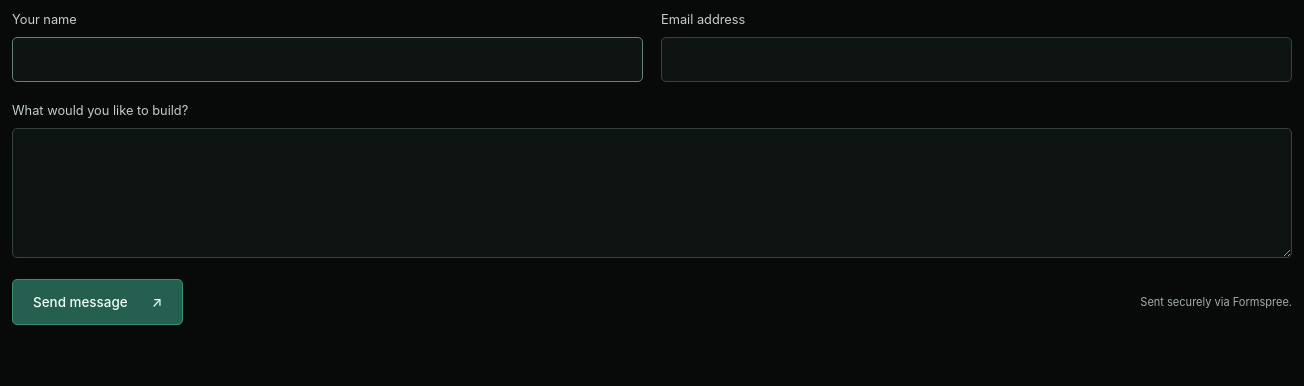
Test: Contact form — all requests mocked › shows pending state, prevents duplicate sends and announces success
The image size is (1304, 386).
Step 1. Type "Test Visitor" into the field labelled "Your name" → [328, 60], box x1=12 y1=37 x2=643 y2=82
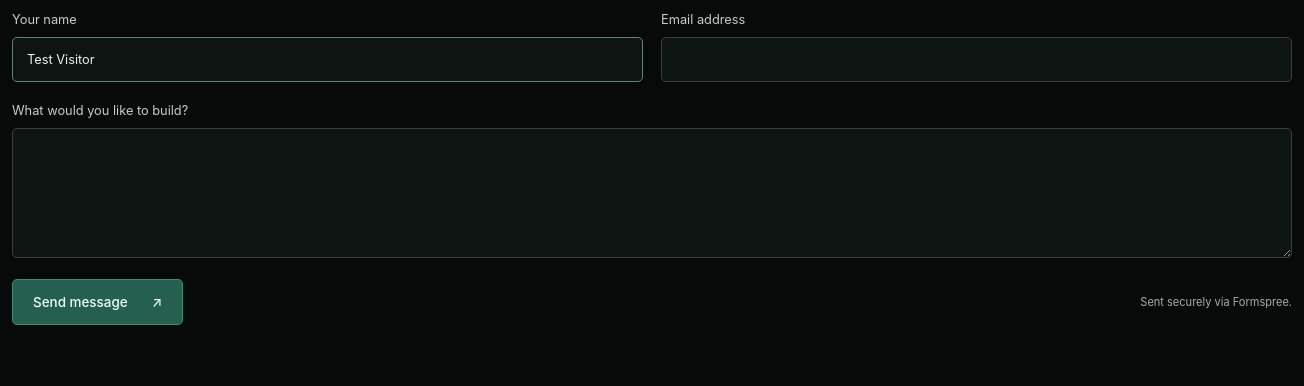
Step 2. Type "visitor@example.com" into the field labelled "Email address" → [976, 60], box x1=661 y1=37 x2=1292 y2=82
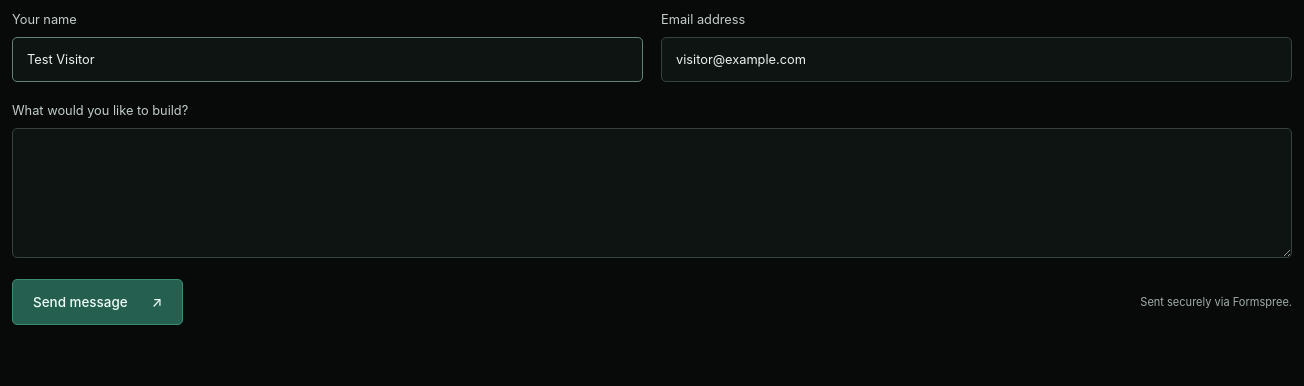
Step 3. Type "A sample enquiry for a mocked test only." into the text box labelled "What would you like to build?" → [652, 193], box x1=12 y1=128 x2=1292 y2=258
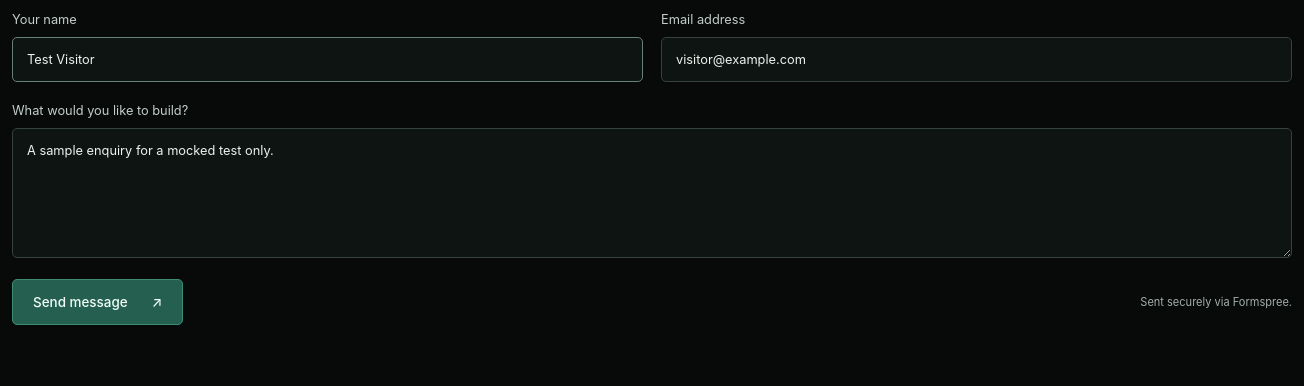
Step 4. Submit the form
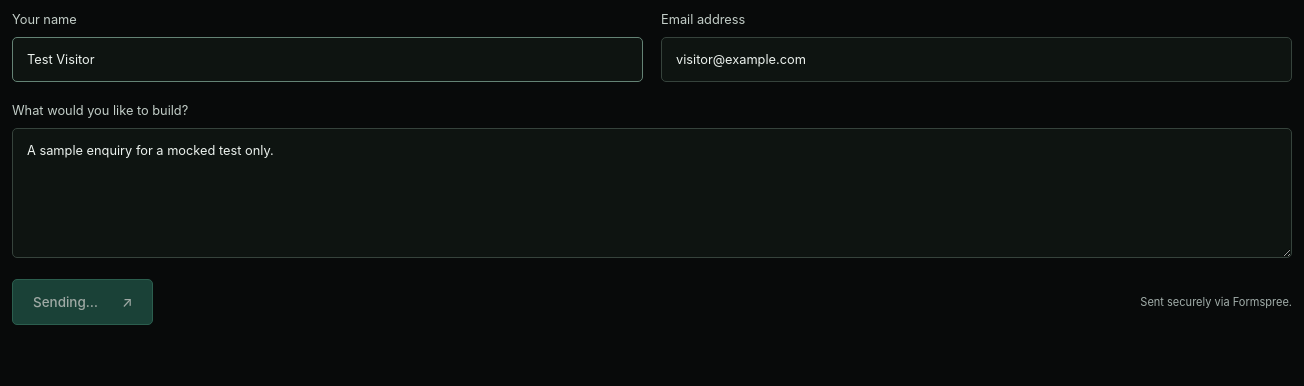
Result: the button "Sending… ↗" is disabled at x1=12 y1=279 x2=154 y2=325
Step 5. Submit the form
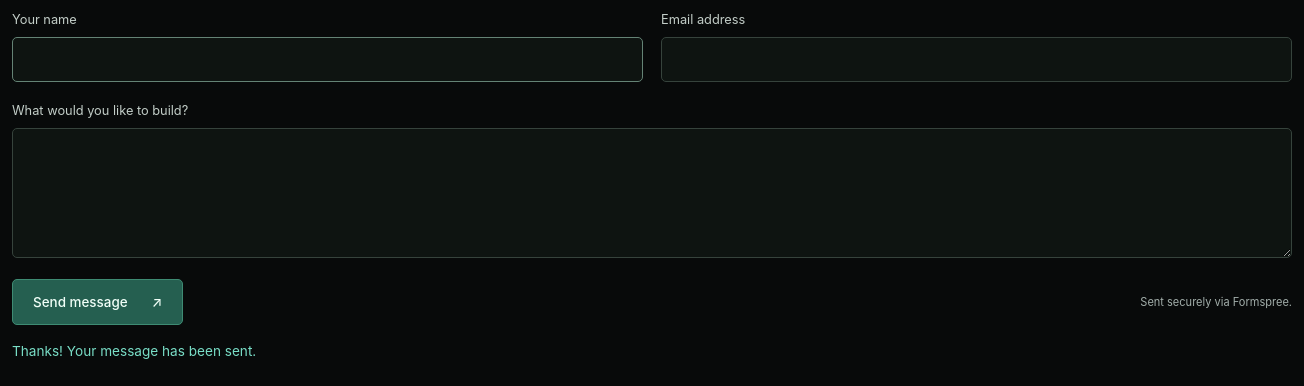
Result: the text "Thanks! Your message has been sent." is shown at x1=12 y1=343 x2=256 y2=359
Result: the field labelled "Your name" is empty at x1=12 y1=37 x2=643 y2=82
